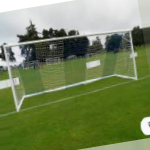goals: (3, 29, 142, 113)
